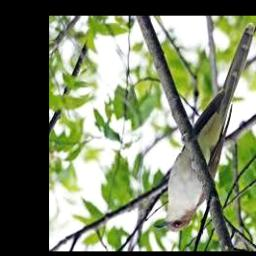Cuckoo: (153, 23, 254, 231)
